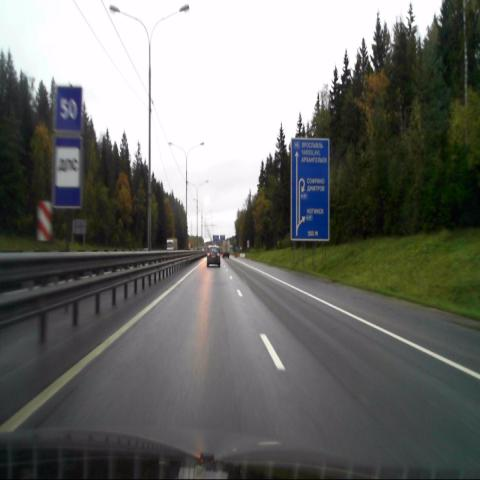6_2: (55, 85, 81, 132)
7_12: (54, 136, 82, 208)
